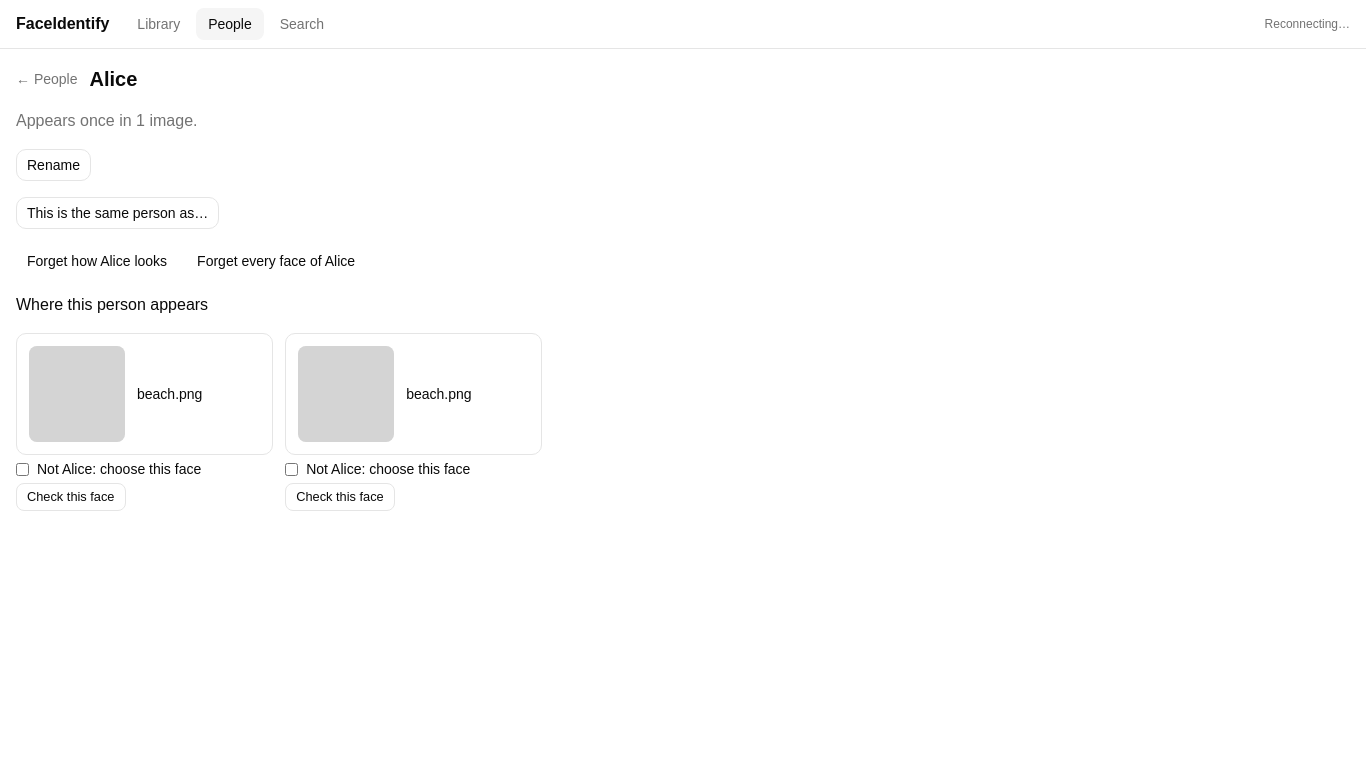
merging a person into another › says what will happen, then merges and goes to the person they were merged into
The width and height of the screenshot is (1366, 768).
Click the button "This is the same person as…" at [118, 213], box top-left (16, 197), bottom-right (219, 229)
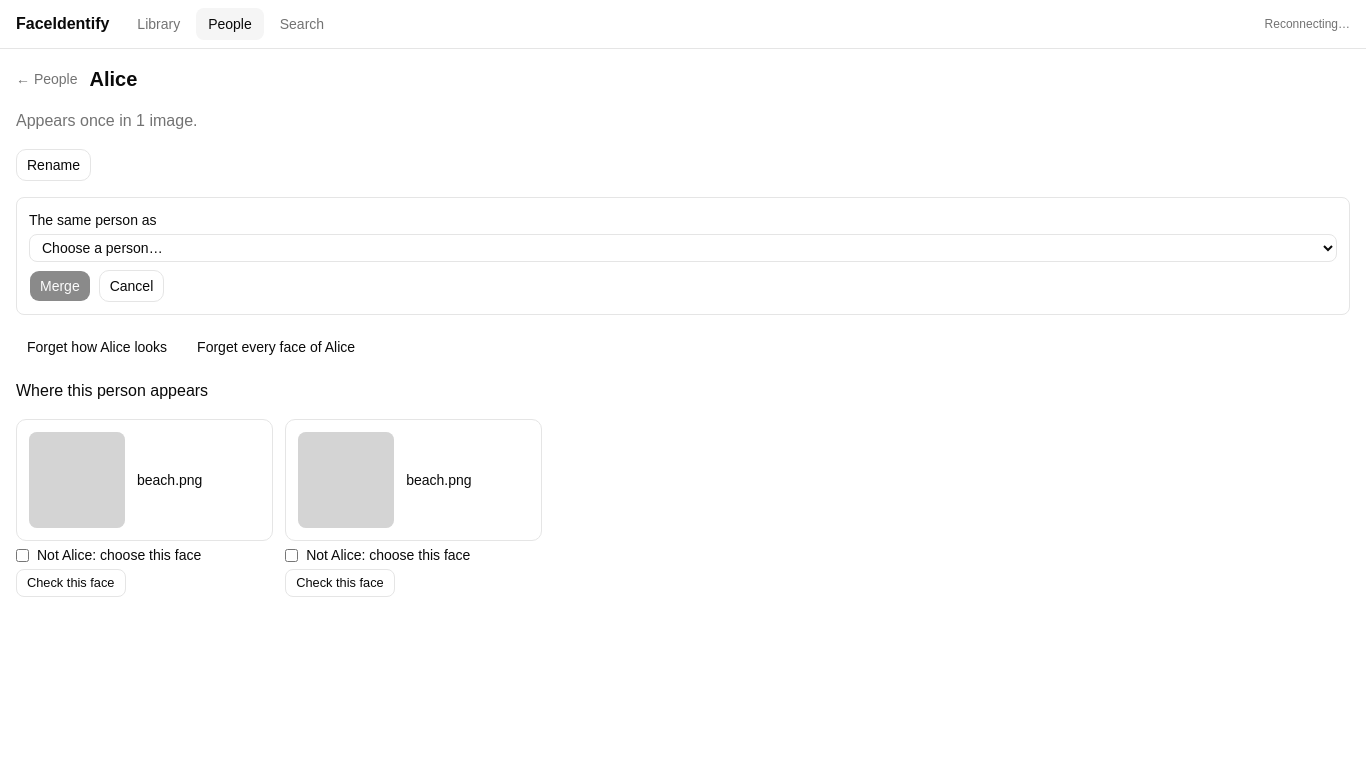
Select "Bob" in the dropdown at [683, 248], box top-left (29, 234), bottom-right (1337, 262)
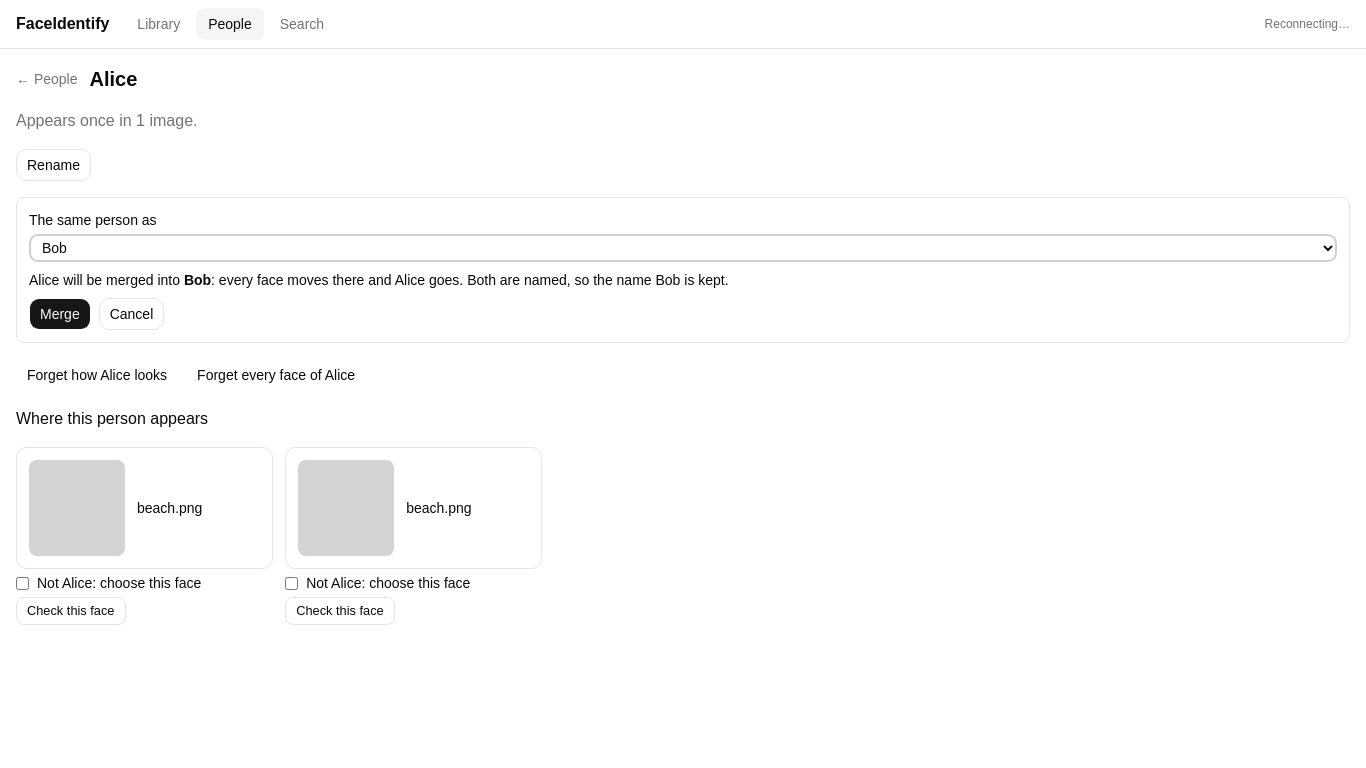
Now the text "will be merged into" shows "Alice will be merged into Bob: every face moves there and Alice goes. Both are named, so the name Bob is kept.", box top-left (29, 272), bottom-right (729, 288)
Click the button "Merge" at [60, 314], box top-left (29, 298), bottom-right (91, 330)
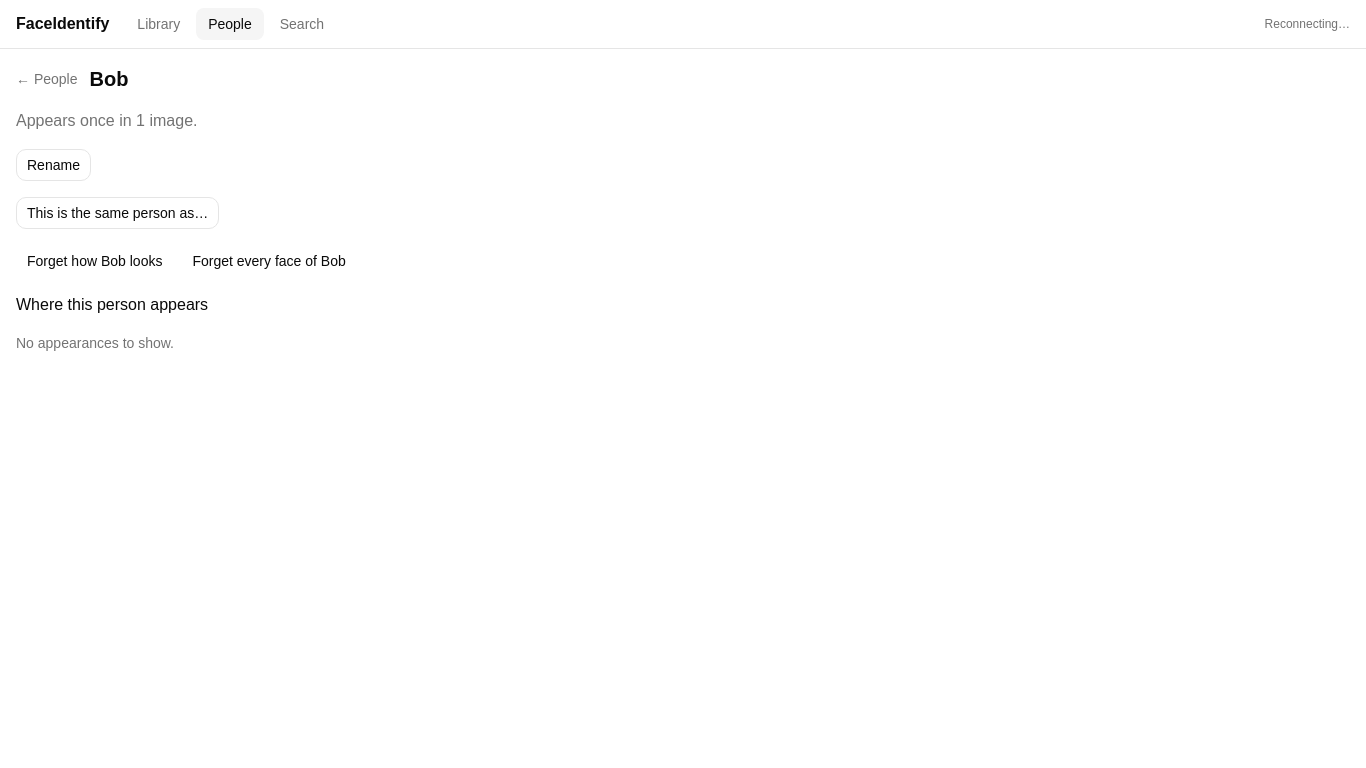
Now the heading "Bob" is shown, box top-left (90, 65), bottom-right (128, 93)
